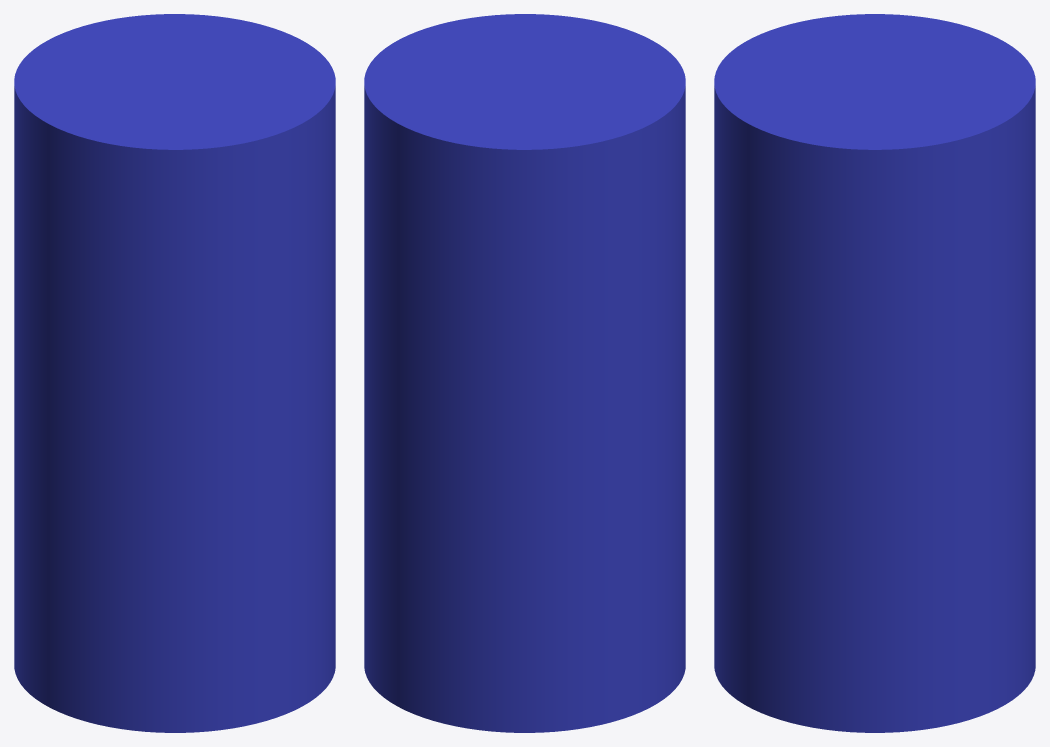
3 views of the same model, side by side, from view 1: azimuth 30°, elevation 25°; view 2: azimuth 150°, elevation 25°; view 3: azimuth 270°, elevation 25° (orthographic).
Parts seen in each view (by area): view 1: root; view 2: root; view 3: root.
Part boxes in pixels (x1=…): root: x1=14, y1=14, x2=335, y2=732; root: x1=364, y1=14, x2=685, y2=732; root: x1=714, y1=14, x2=1035, y2=732.
Bounding box in the file's own units: 0.1 × 0.2 × 0.1.
